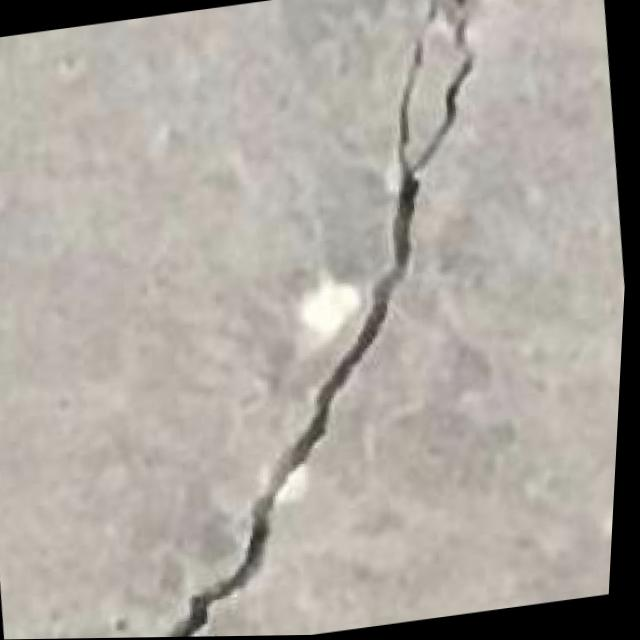Crack: (46, 0, 561, 639)
